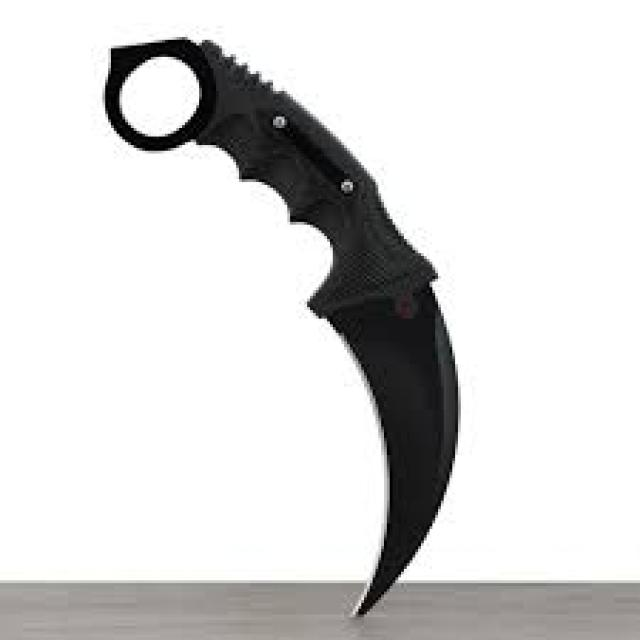knives: (94, 31, 466, 623)
